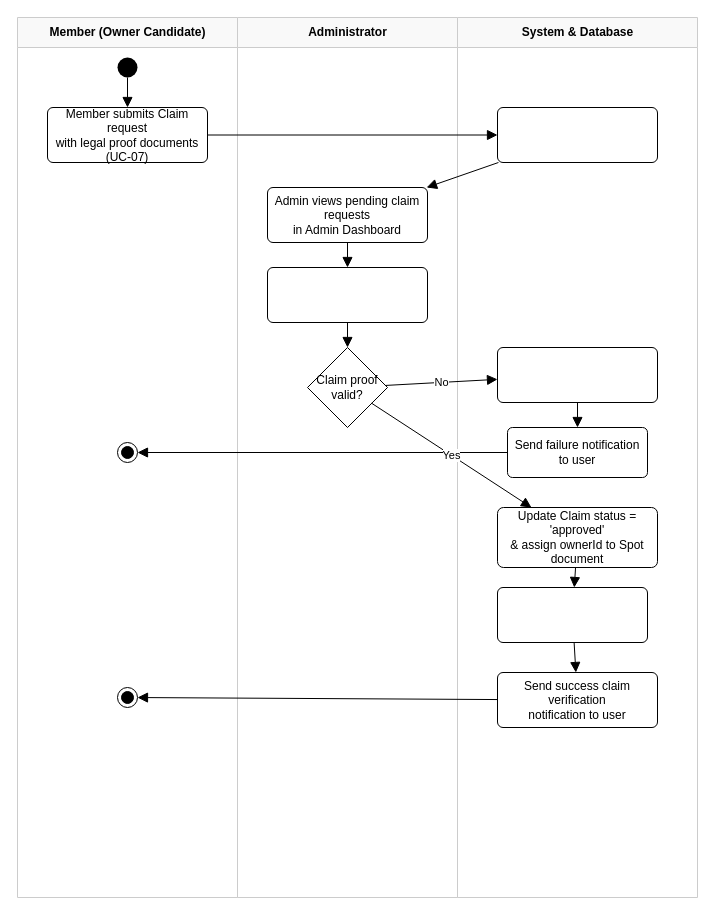
This 715x915 diagram has some shape labels left out. Each missing label, with the box of its shape:
Admin cross-checks uploaded proof vs spot business details (UC-18): (266, 266, 428, 322)
Create claim document in Firestore with status = 'pending': (496, 106, 658, 162)
Update Claim status = 'rejected' & save Admin rejection reason: (496, 346, 658, 402)
Update User role = 'owner' in users collection: (496, 586, 648, 642)
